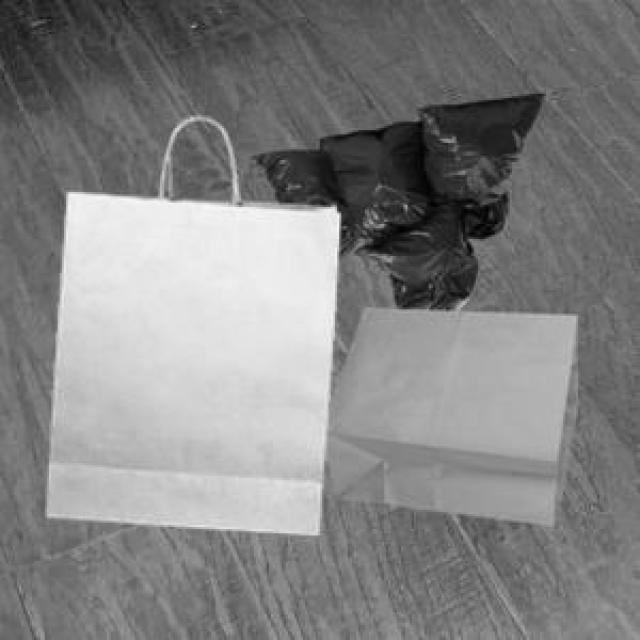miscellaneous trash: (248, 90, 539, 307)
paper: (43, 113, 335, 531), (320, 305, 574, 521)
